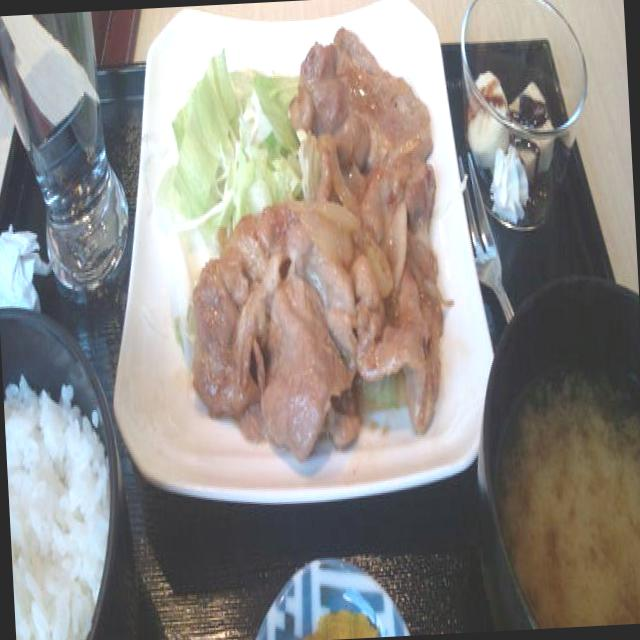Rice: (2, 364, 112, 640)
